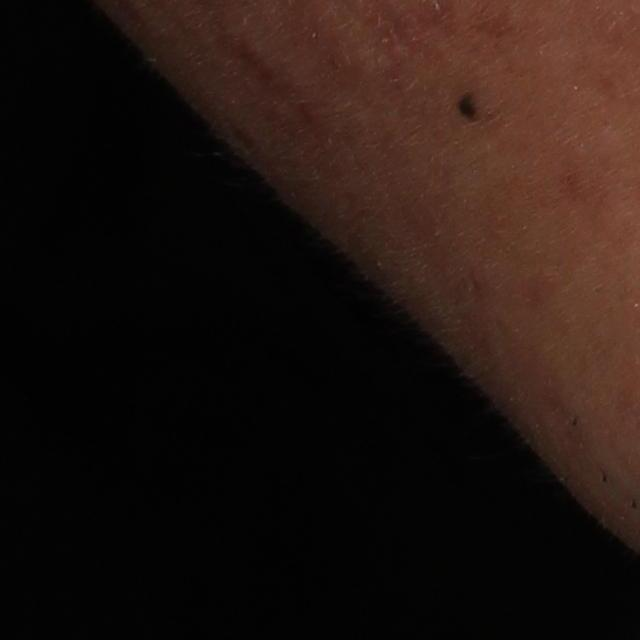nevus: (453, 90, 480, 120)
